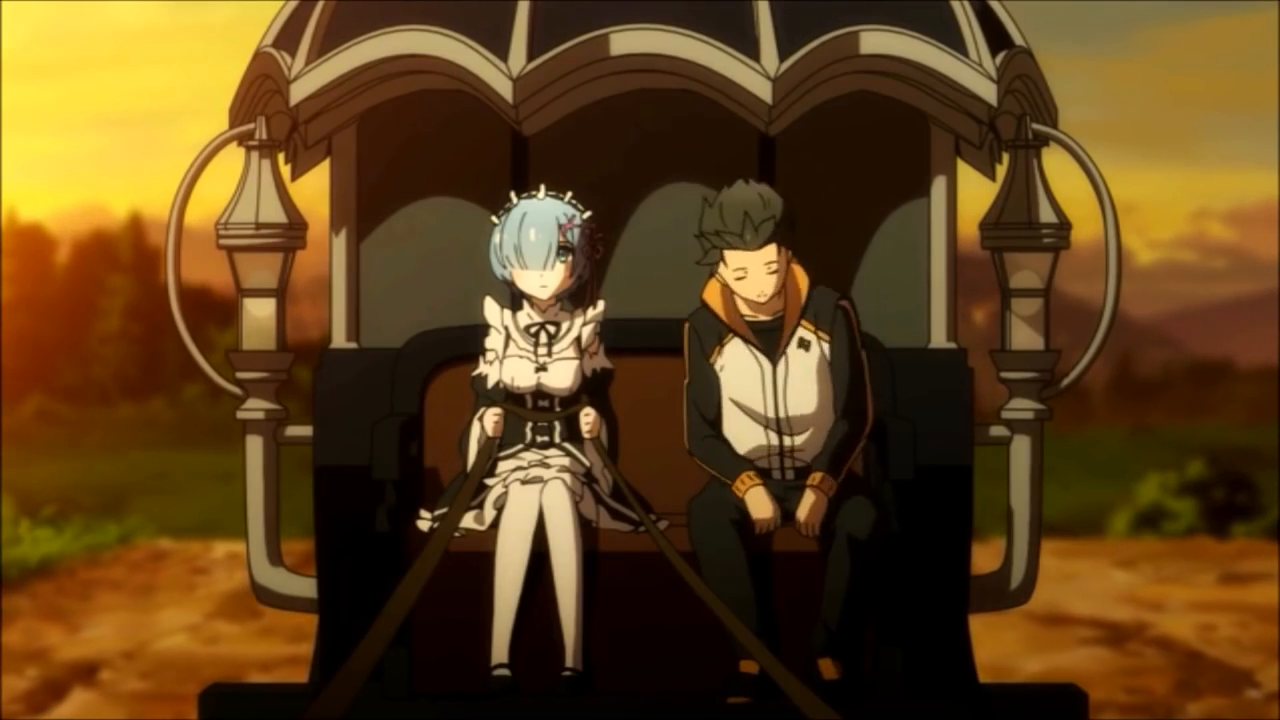REM: (481, 185, 609, 309)
